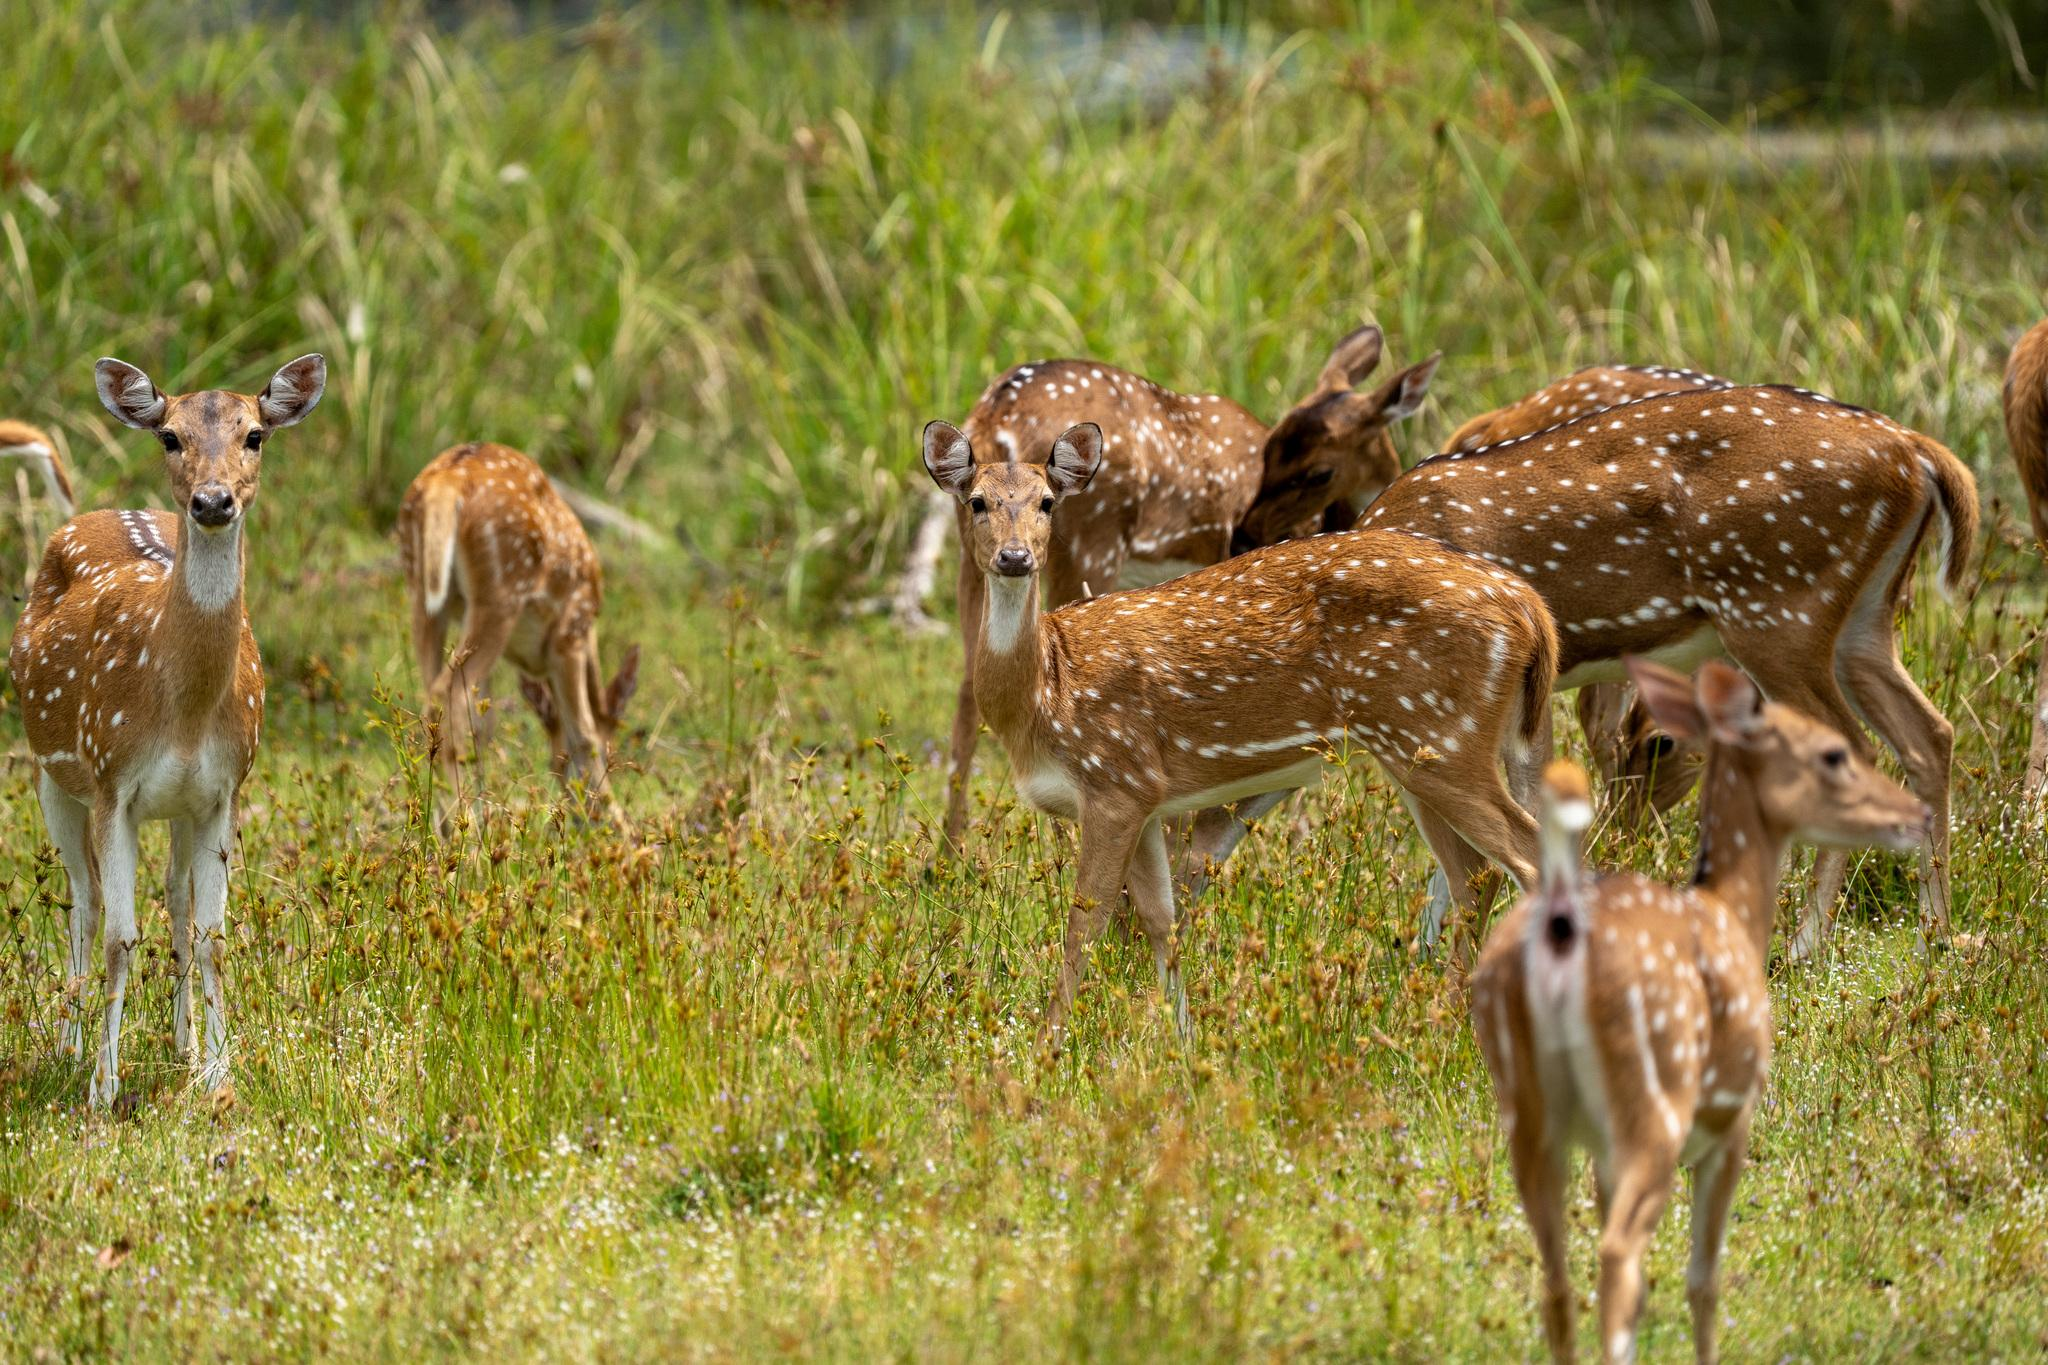Deer: (924, 420, 1558, 999), (1472, 666, 1926, 1360), (1360, 385, 1979, 862), (11, 353, 324, 1106), (397, 443, 636, 794), (959, 360, 1268, 606), (1233, 324, 1439, 553), (1439, 366, 1731, 456), (1606, 690, 1701, 830)
